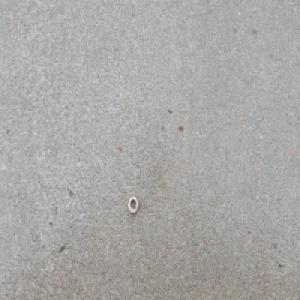Nut: (125, 196, 138, 215)
